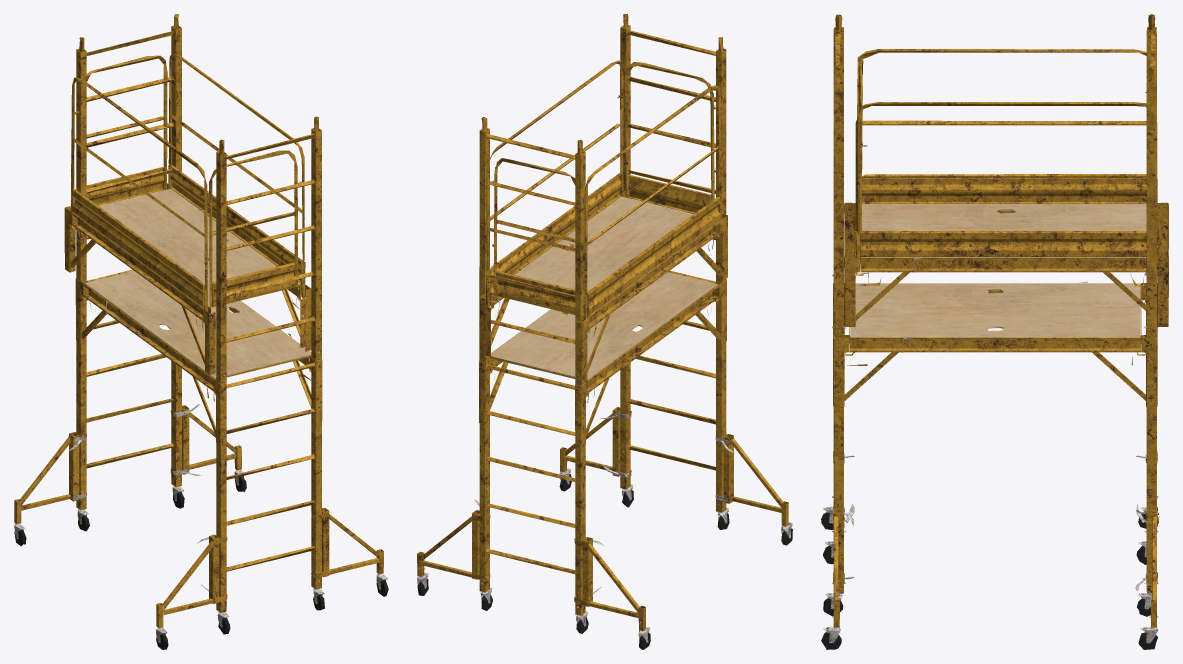
File: shelter_b_scaffold.glb
The picture shows the model from 3 angles, left to right: view 1: azimuth 30°, elevation 25°; view 2: azimuth 150°, elevation 25°; view 3: azimuth 270°, elevation 25°; orthographic projection. The views are drawn at different scales.
Visible parts, largest first — view 1: shelter_b_scaffold; view 2: shelter_b_scaffold; view 3: shelter_b_scaffold.
Part boxes in pixels (<box>): shelter_b_scaffold: <box>14,14,388,649</box>; shelter_b_scaffold: <box>417,14,792,649</box>; shelter_b_scaffold: <box>821,14,1168,649</box>.
Size of the model in its own units: 1.71 by 3.52 by 2.02.
4 materials, 4 textured.
